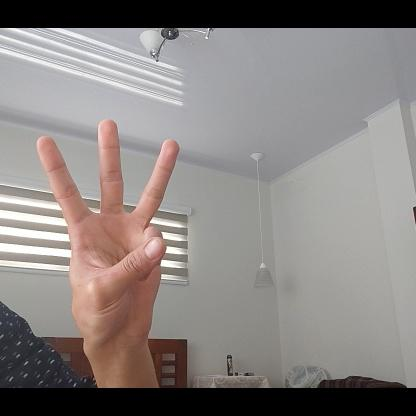W: (37, 119, 186, 352)
